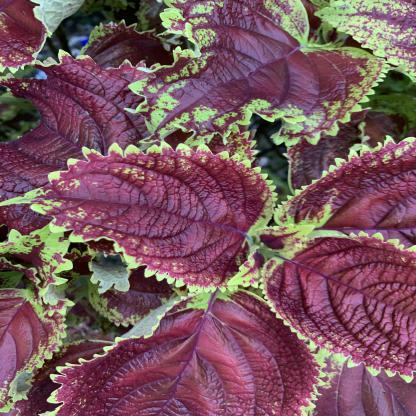Bunga Coleus: (22, 21, 389, 398)
